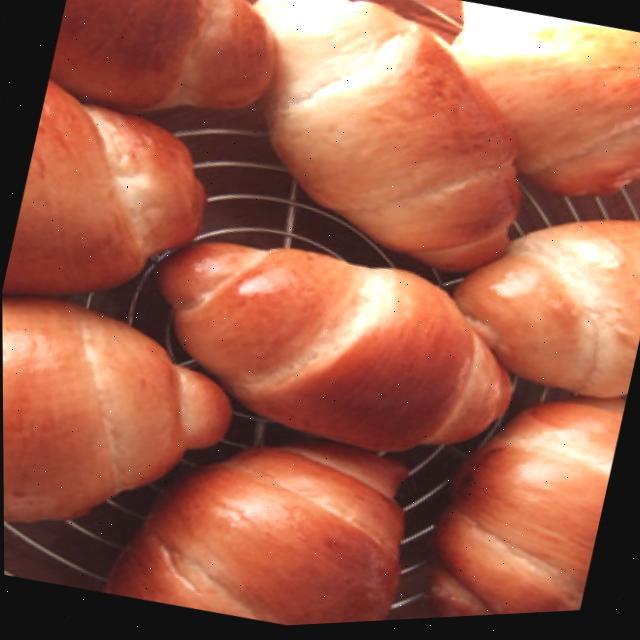面包点心: (114, 174, 563, 520)
